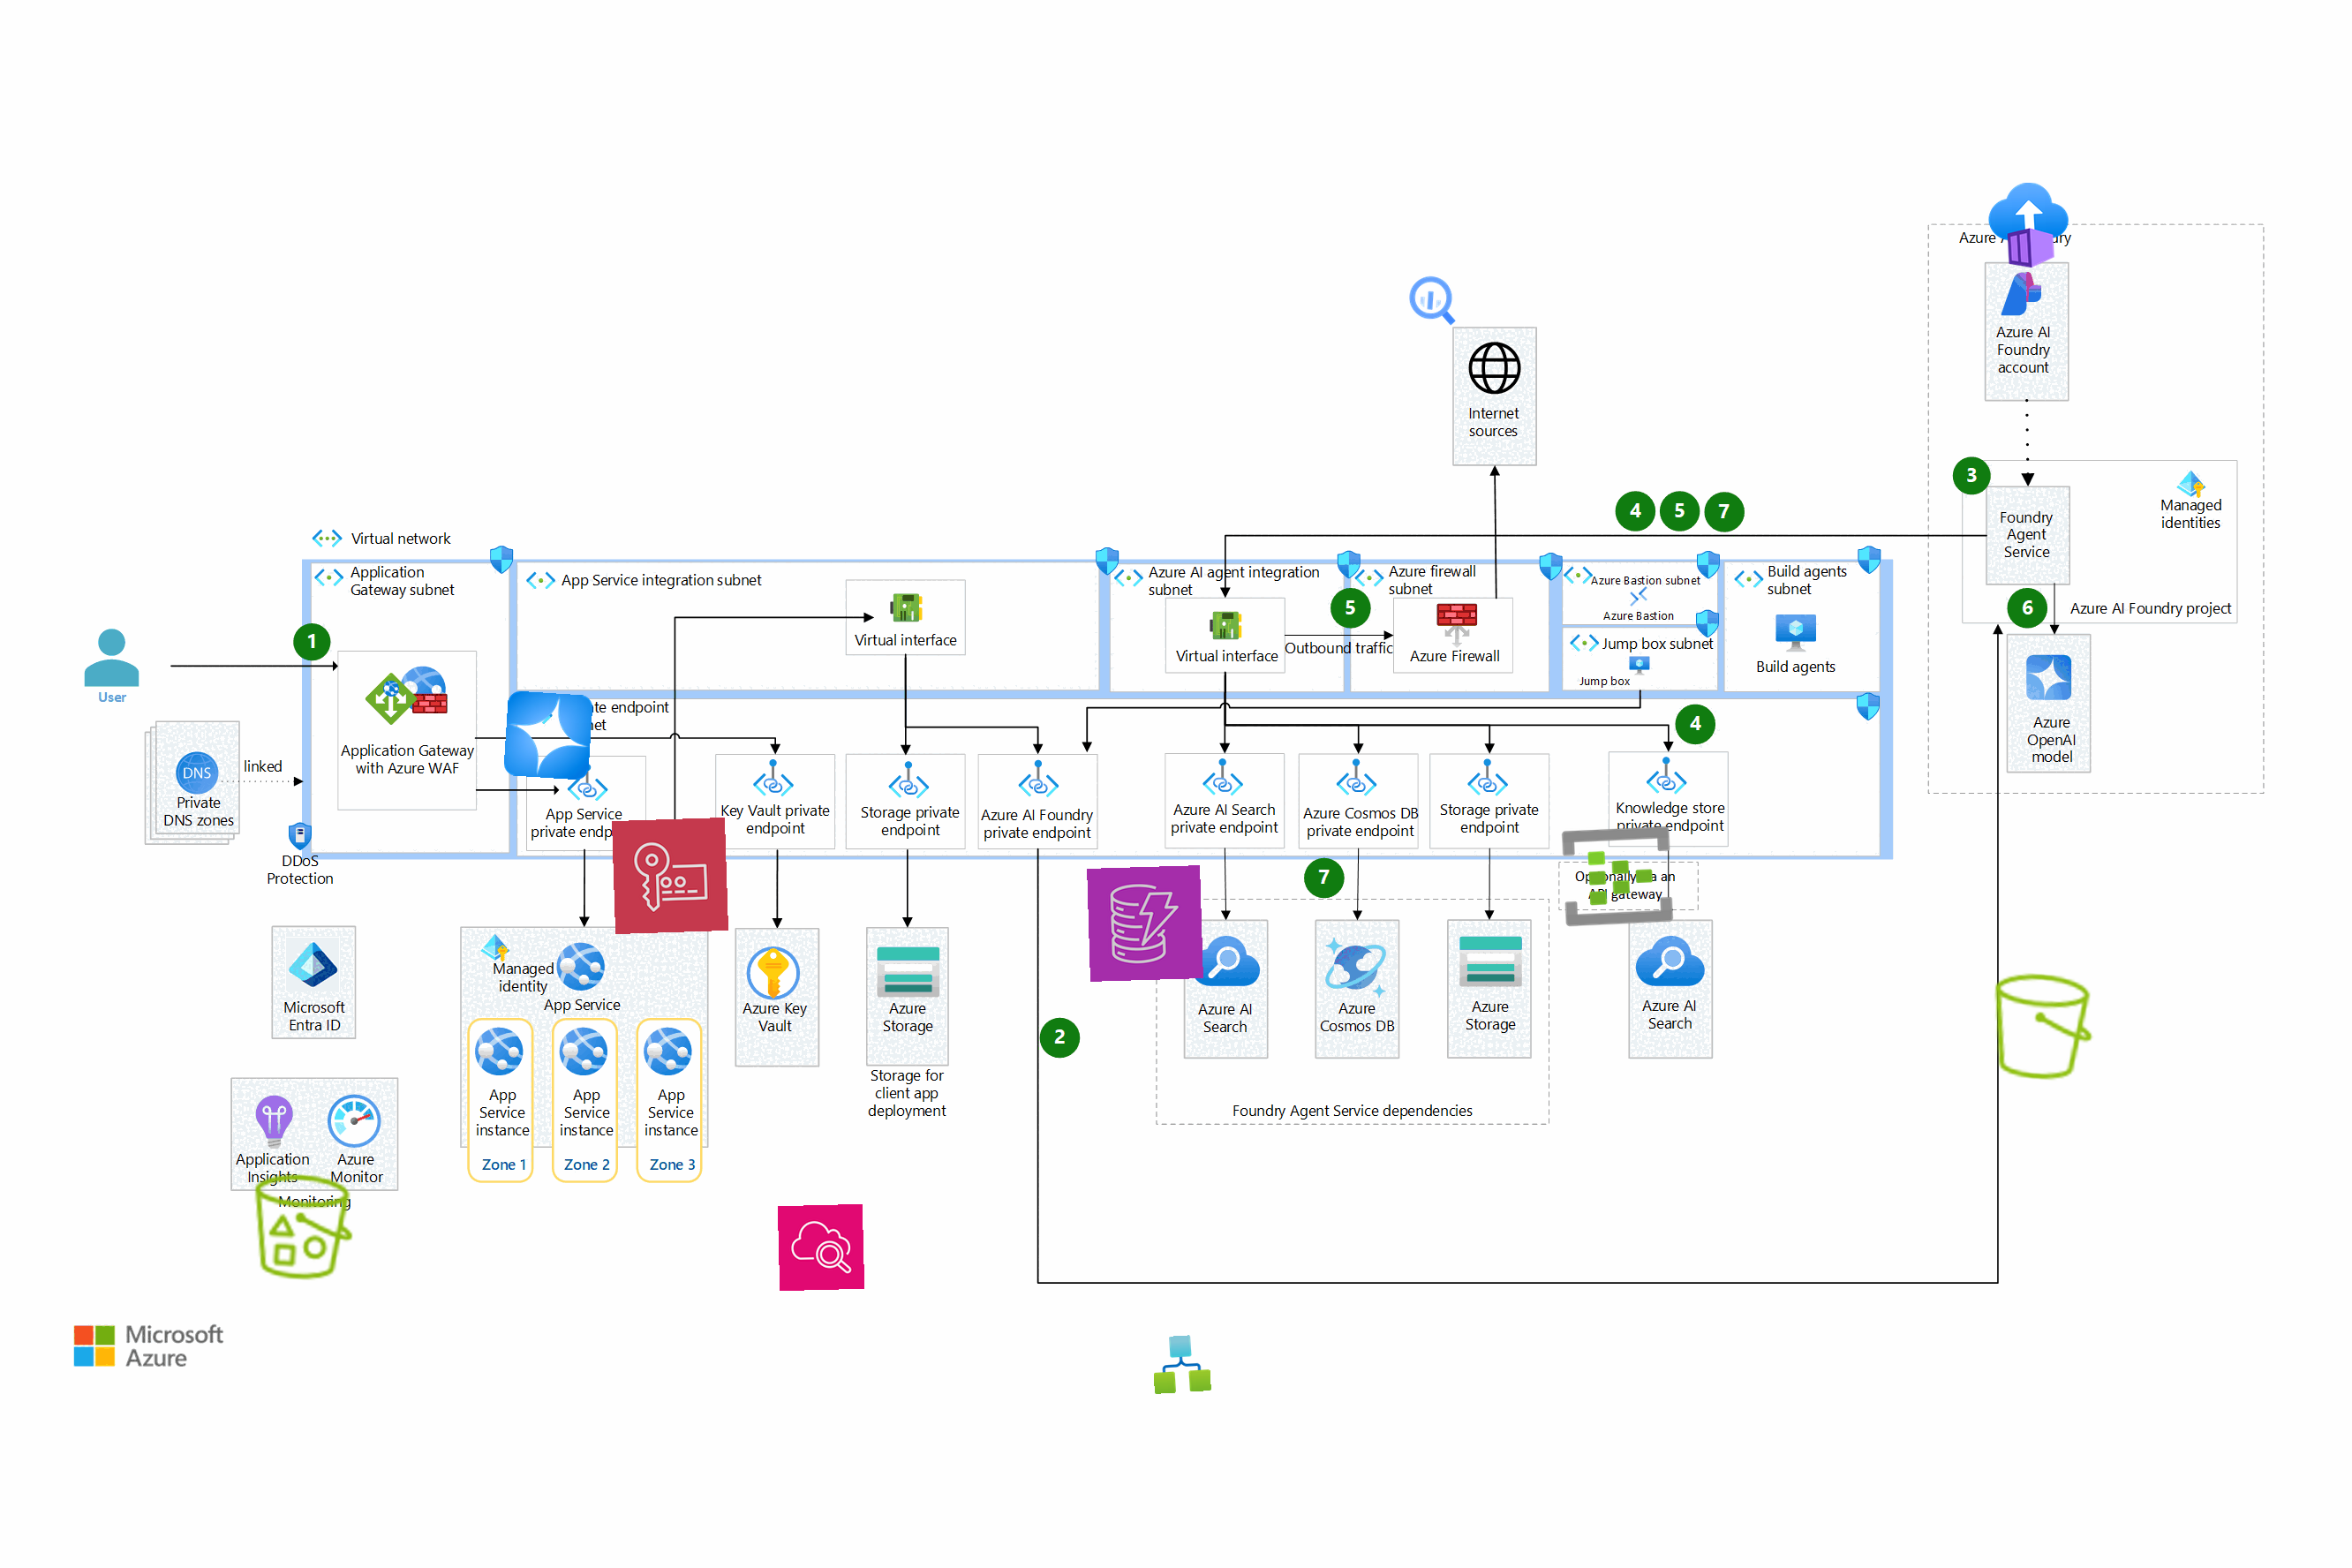aws_amazon_cloudwatch: (777, 1204, 864, 1291)
aws_amazon_dynamodb: (1087, 864, 1204, 982)
aws_key_management_service: (611, 817, 730, 934)
aws_simple_storage_service_bucket: (1981, 964, 2103, 1088)
aws_simple_storage_service_bucket_with_objects: (243, 1167, 362, 1288)
azure_container_instances: (1984, 180, 2074, 269)
azure_event_hubs: (1557, 817, 1676, 934)
azure_logic_apps: (1151, 1333, 1211, 1395)
azure_openai: (502, 689, 595, 780)
gcp_bigquery: (1403, 269, 1463, 331)
